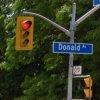Traffic light: (9, 11, 42, 56)
